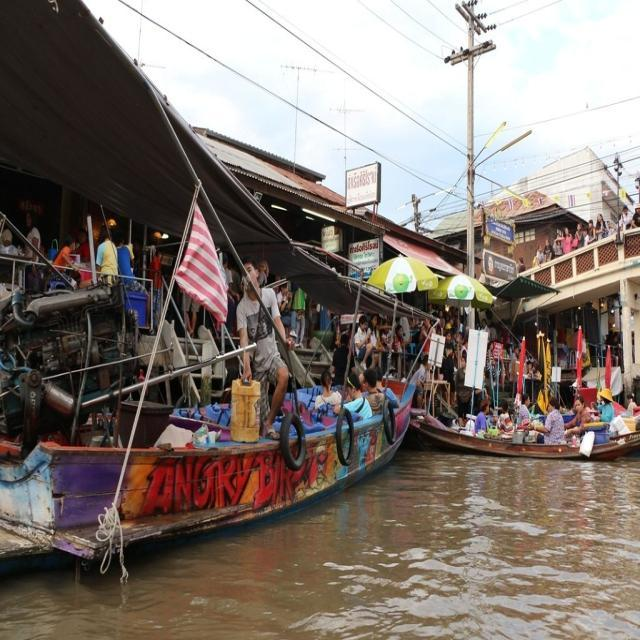boat: (1, 369, 427, 567), (395, 389, 631, 475)
